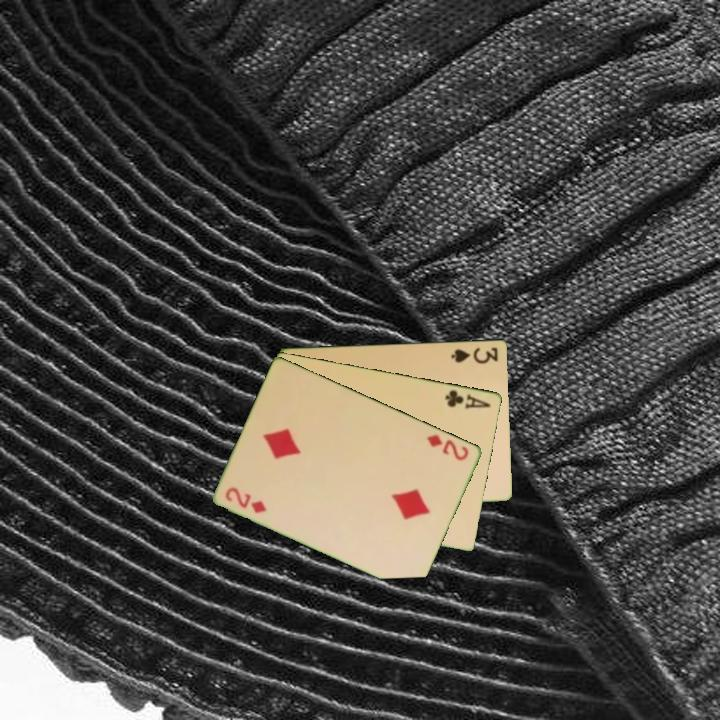2d: (222, 483, 270, 516), (423, 431, 472, 463)
3s: (448, 343, 501, 366)
Ac: (442, 386, 493, 412)
